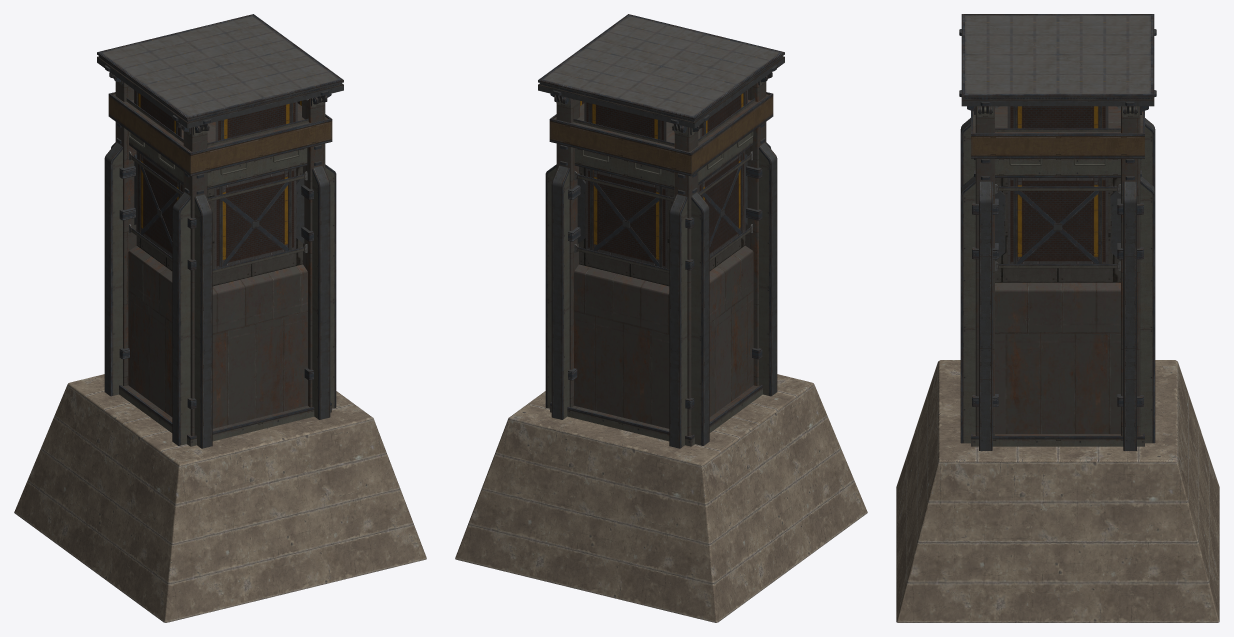
The model's file is Wall1_Tower.fbx.
3 views of the same model, side by side, from view 1: azimuth 30°, elevation 25°; view 2: azimuth 150°, elevation 25°; view 3: azimuth 270°, elevation 25° (orthographic). The views are drawn at different scales.
Parts seen in each view (by area): view 1: polySurface904; view 2: polySurface904; view 3: polySurface904.
Boxes of the visible parts, <box> form: polySurface904: <box>14,14,426,622</box>; polySurface904: <box>455,14,867,622</box>; polySurface904: <box>896,14,1219,622</box>.
Size of the model in its own units: 2013 by 3434 by 2013.
